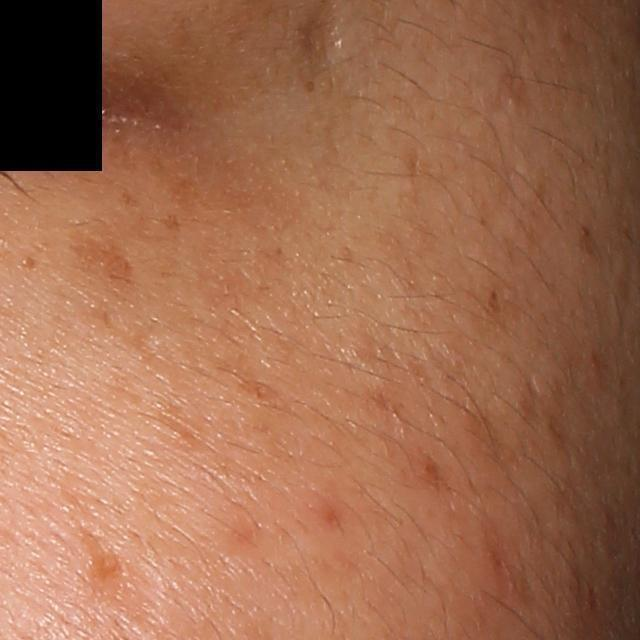melasma: (64, 223, 144, 299), (147, 134, 220, 212), (466, 277, 526, 345)
